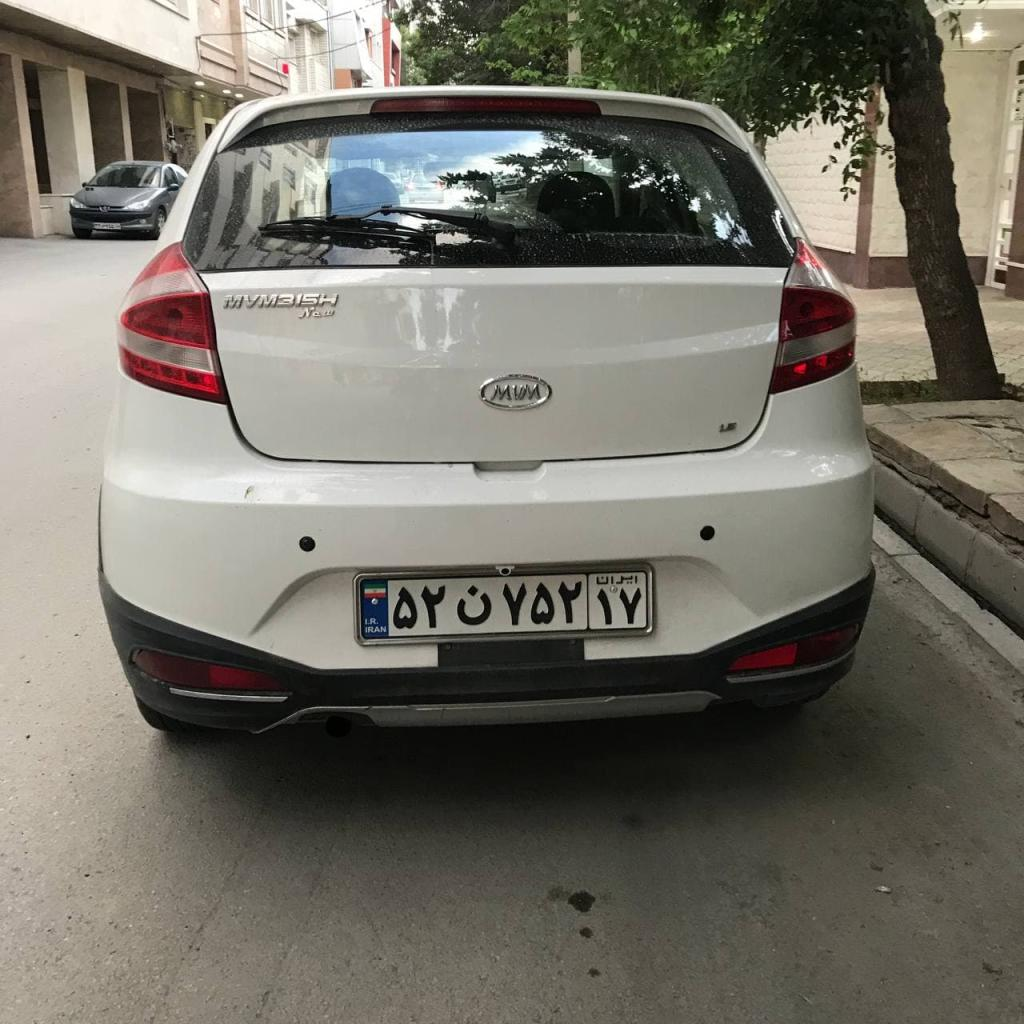Plates: (361, 572, 647, 639)
